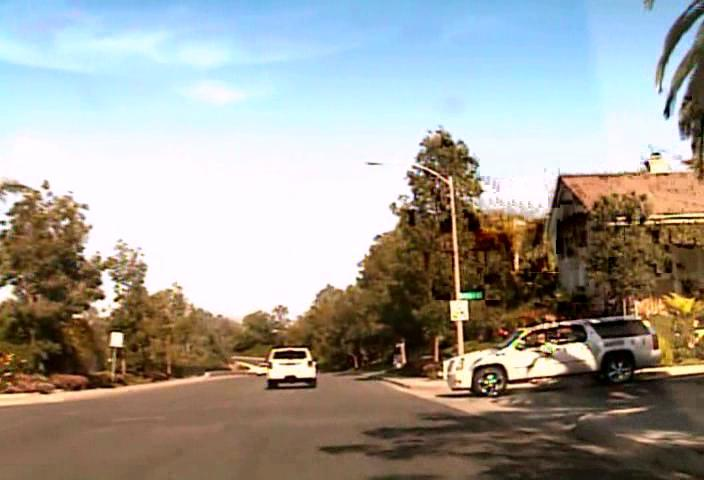speedLimitUrdbl: (449, 299, 469, 321)
